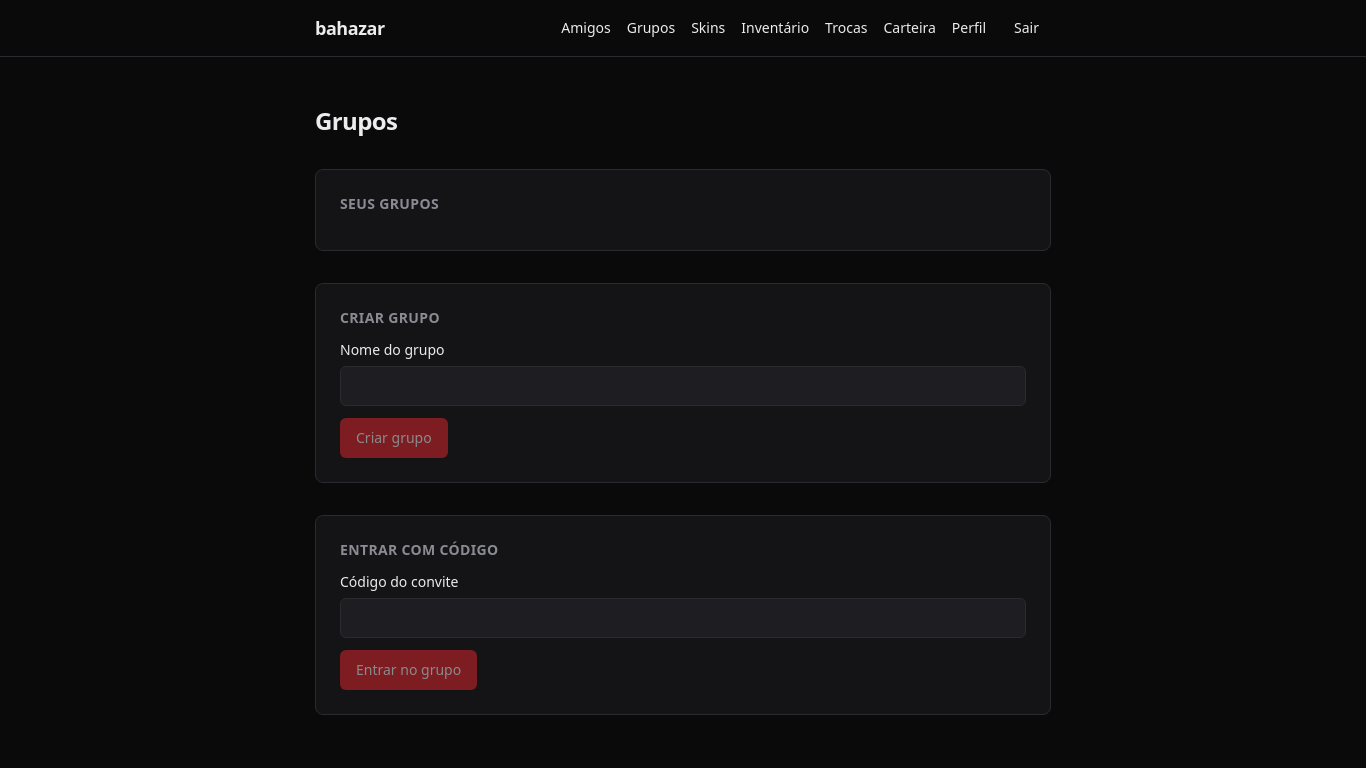
Test: RoomsPage › erro 409 ao criar mostra a mensagem própria, nunca o texto do servidor
This screenshot has width=1366, height=768.
Type "Novo" into the field labelled "Nome do grupo". click: (683,386)
box: [340, 366, 1026, 406]
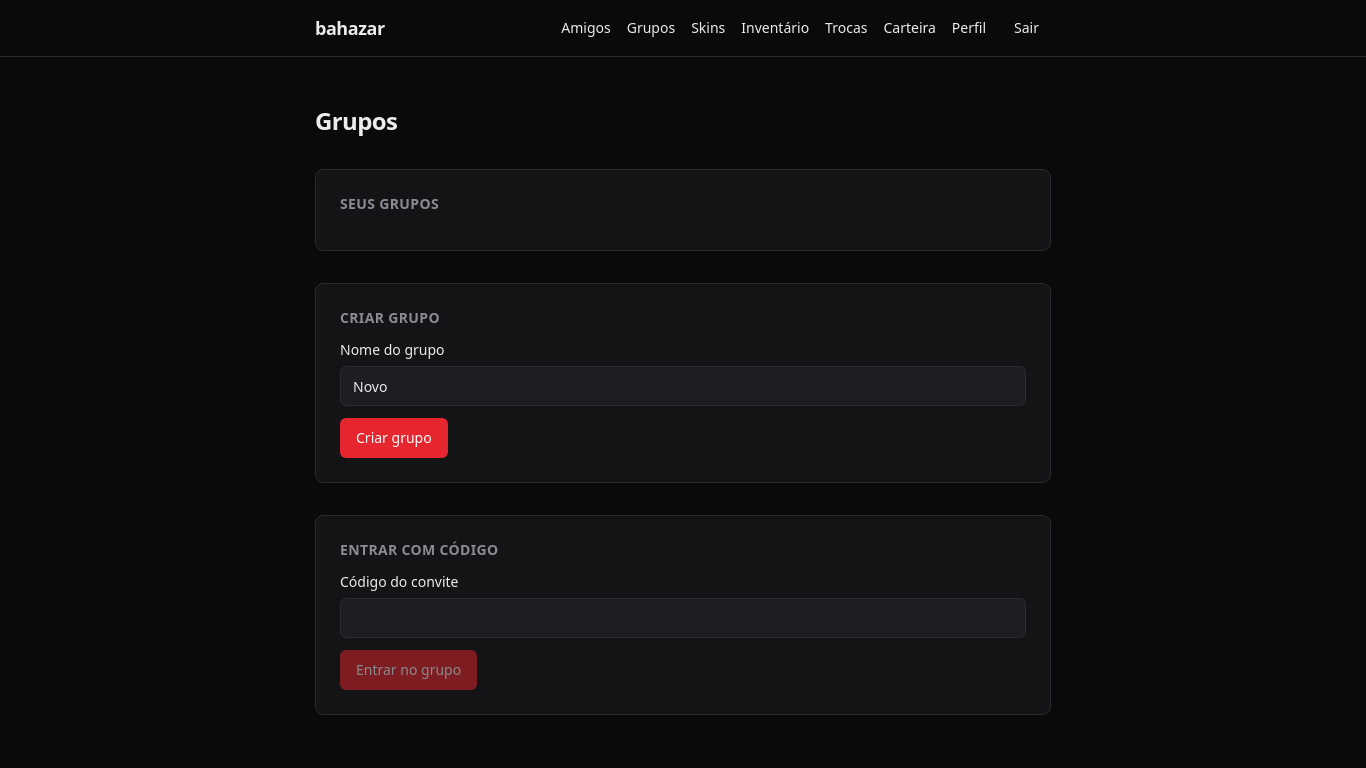
Click the button "Criar grupo". click: (394,438)
box: [340, 418, 448, 458]
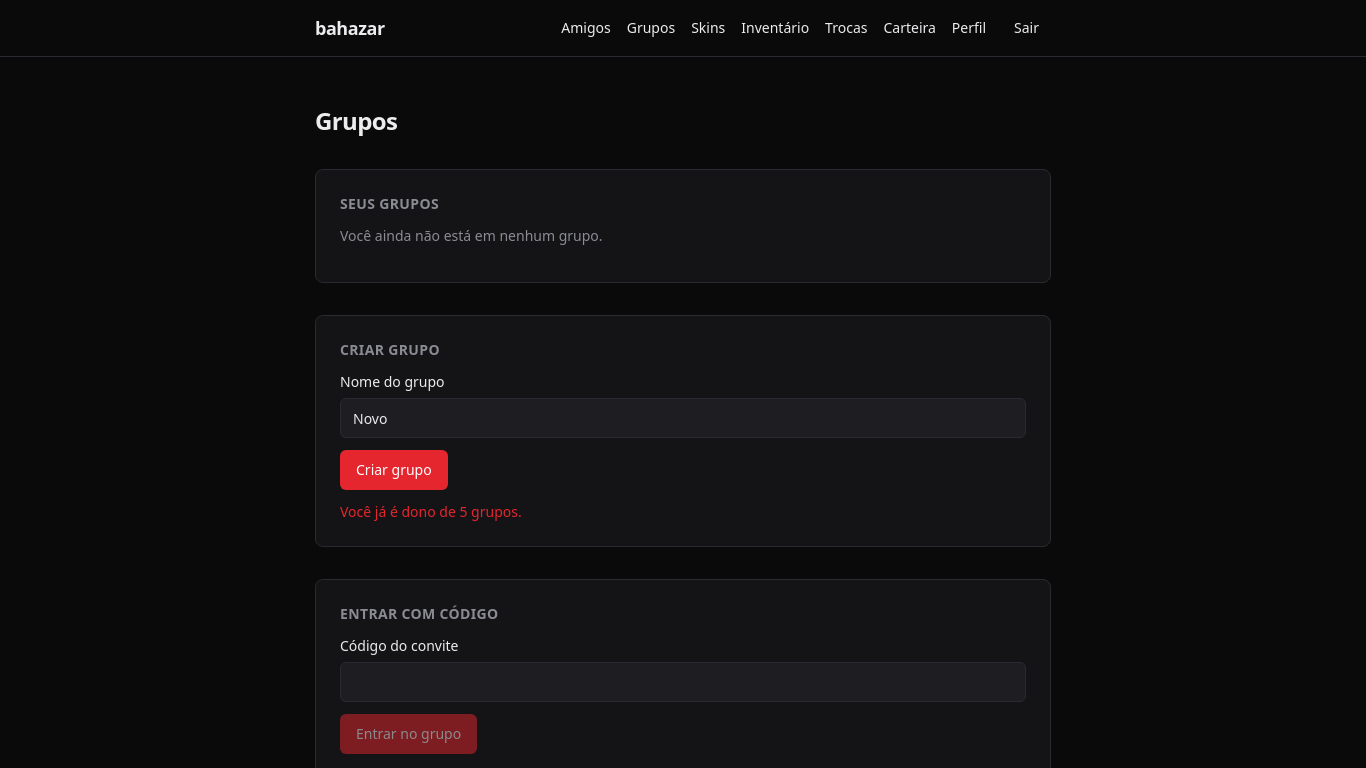
Check: the message does not show "Traceback", box [340, 502, 522, 521]
Check: the message reads "Você já é dono de 5 grupos.", box [340, 502, 522, 521]
